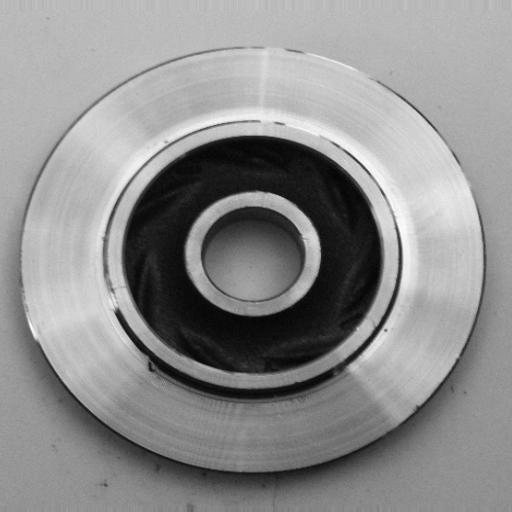crack: (138, 349, 165, 382)
scratch: (239, 101, 346, 152), (15, 254, 57, 355), (90, 224, 129, 329)
unpolished_casting: (18, 45, 485, 482)
